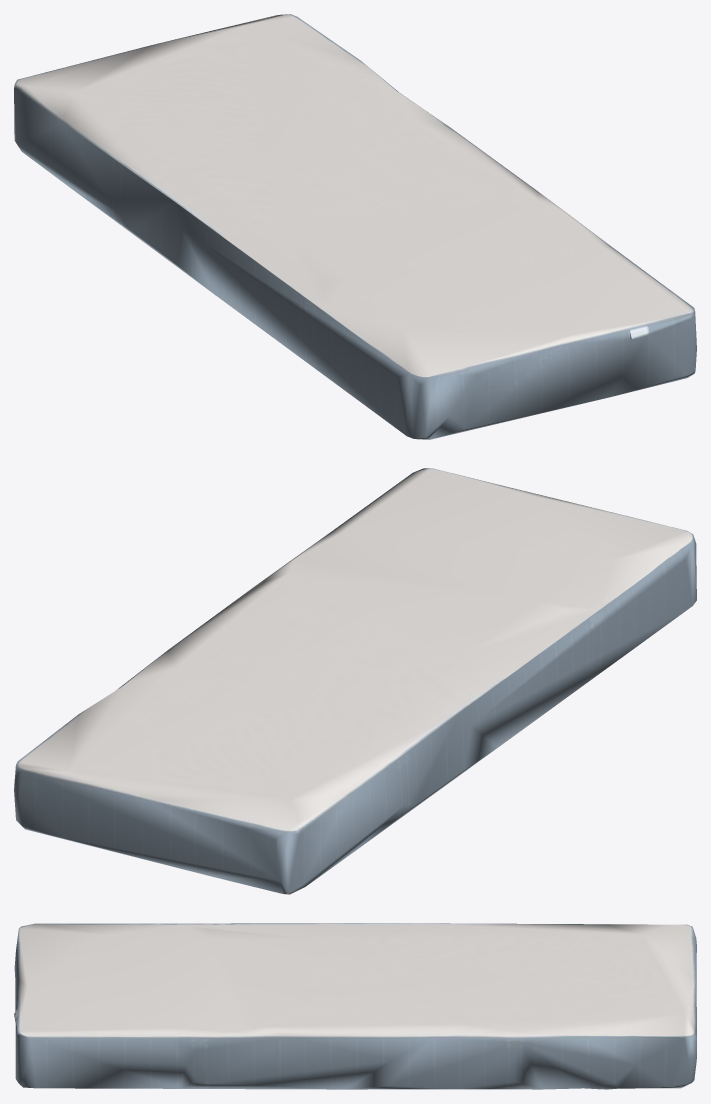
The model's file is Vestmarka90470195-scene-512.glb.
3 renders of one model, top to bottom at view 1: azimuth 30°, elevation 25°; view 2: azimuth 150°, elevation 25°; view 3: azimuth 270°, elevation 25°, orthographic. The views are drawn at different scales.
Visible parts, largest first — view 1: model; view 2: model; view 3: model.
Boxes of the visible parts, left/top/right/bottom form: model: left=14, top=14, right=696, bottom=439; model: left=14, top=468, right=696, bottom=894; model: left=14, top=923, right=696, bottom=1089.
Size of the model in its own units: 0.8101 by 0.1876 by 2.
Materials: 1 (1 with a texture image).
